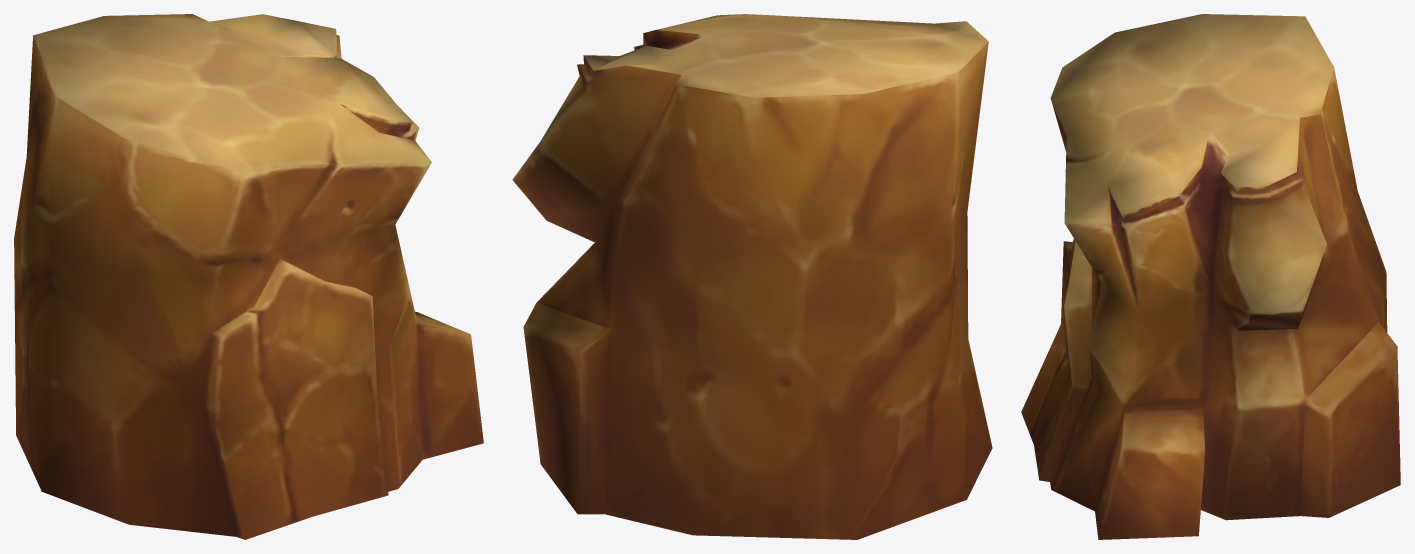
Rendered from Stage_ShaMo_ShiTou01.FBX.
3 renders of one model, left to right at view 1: azimuth 30°, elevation 25°; view 2: azimuth 150°, elevation 25°; view 3: azimuth 270°, elevation 25°, orthographic. The views are drawn at different scales.
Parts seen in each view (by area): view 1: Stage_ShaMo_ShiTou01; view 2: Stage_ShaMo_ShiTou01; view 3: Stage_ShaMo_ShiTou01.
Part boxes in pixels (bbox=[...]): Stage_ShaMo_ShiTou01: bbox=[14, 14, 483, 539]; Stage_ShaMo_ShiTou01: bbox=[512, 14, 992, 539]; Stage_ShaMo_ShiTou01: bbox=[1021, 14, 1400, 539].
Size of the model in its own units: 660 by 673 by 621.
